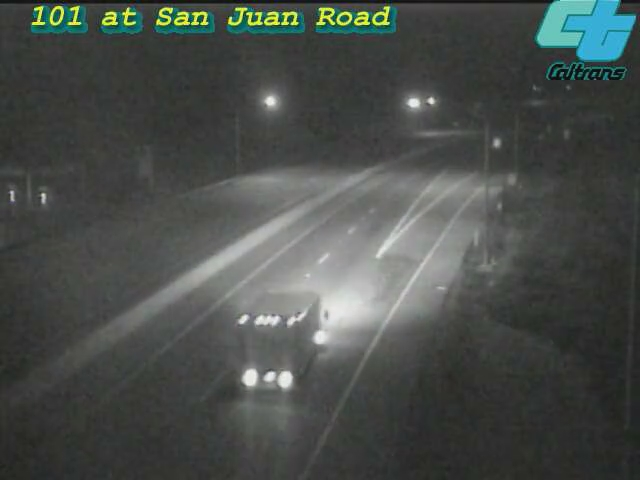vehicle: (207, 310, 317, 420)
